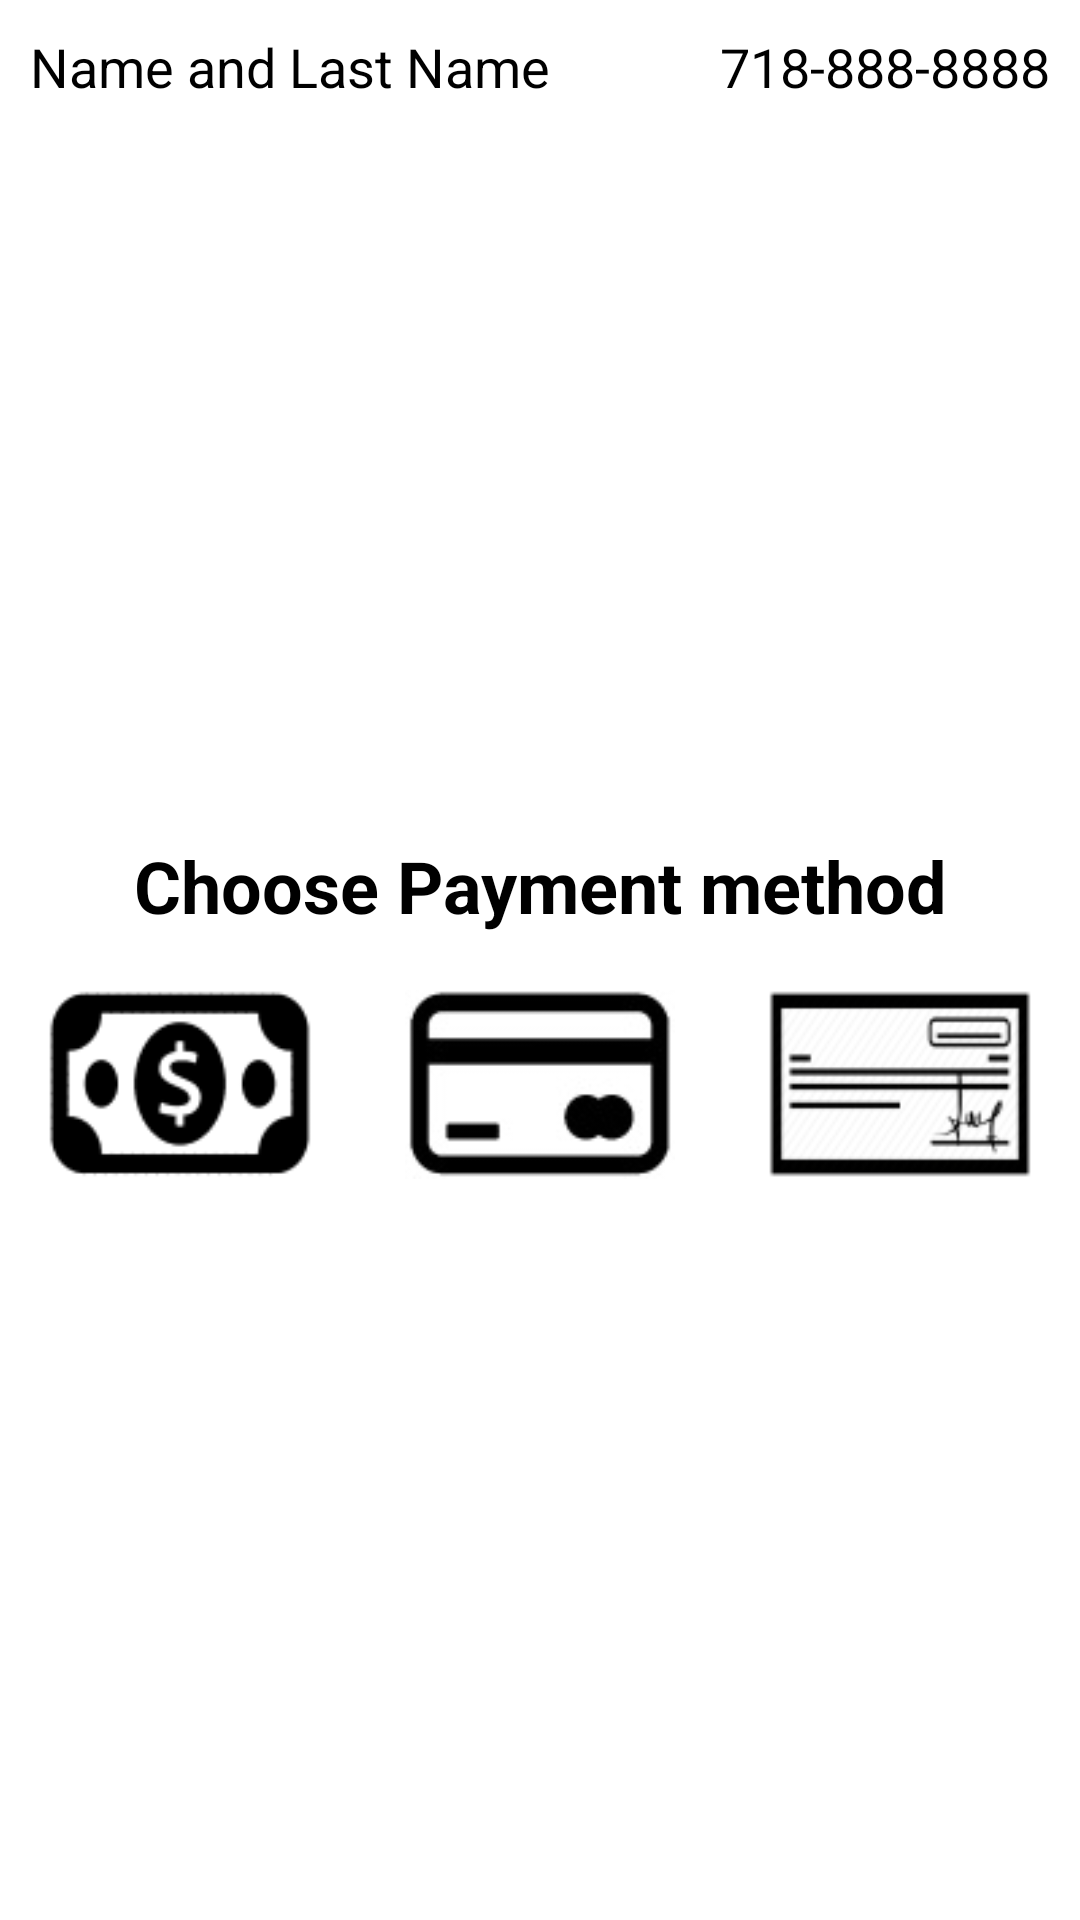

Named icons in this screenshot (1080×1920) and their centers, point (x, y):
card: point (539, 1083)
cash: point (179, 1083)
check: point (900, 1084)
